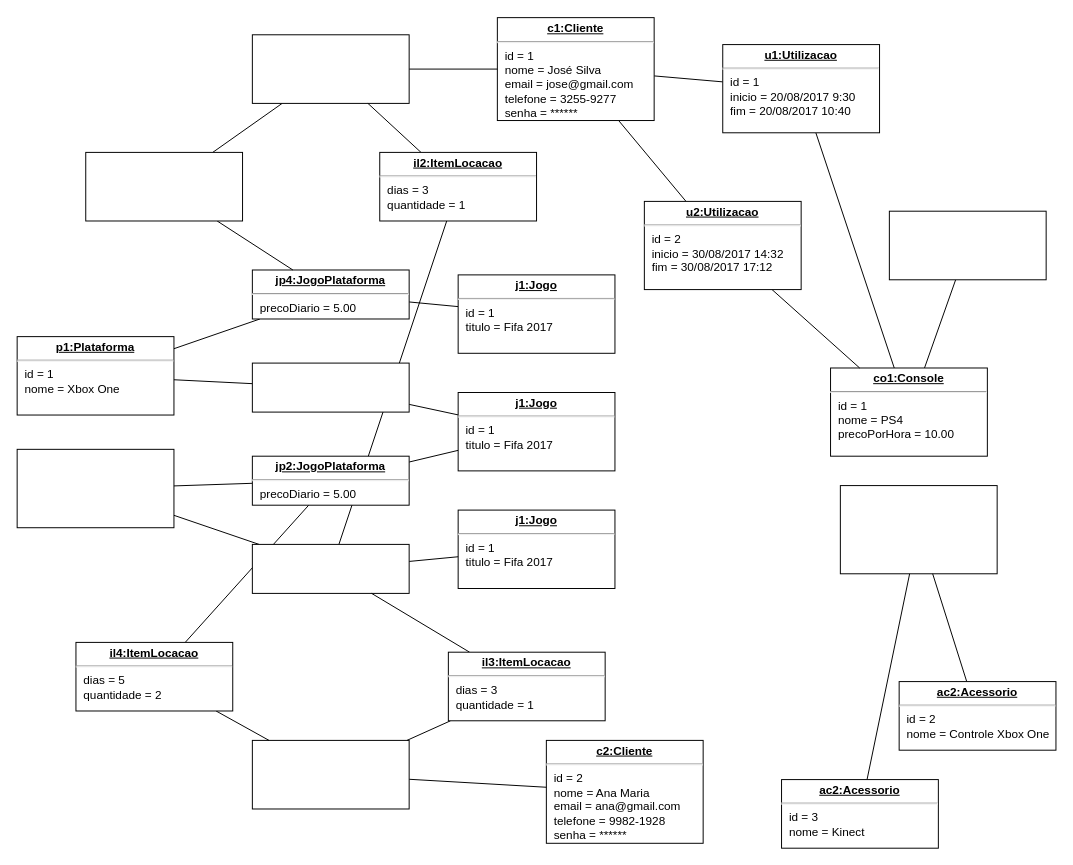
Some shapes in this 1073 by 865 pixel diagram are drawn without their labels. Each missing label, with the box of its shape:
ac1:Acessorio id = 1 nome = Controle PS4: (888, 210, 1046, 280)
co2:Console id = 2 nome = Xbox One precoPorHora = 11.00: (839, 485, 997, 574)
il1:ItemLocacao dias = 2 quantidade = 1: (85, 151, 243, 221)
jp1:JogoPlataforma precoDiario = 4.00: (251, 362, 409, 412)
jp3:JogoPlataforma precoDiario = 5.50: (251, 543, 409, 593)
l1:Locacao id = 1 data = 30/08/2017: (251, 34, 409, 103)
l2:Locacao id = 2 data = 05/09/2017: (251, 739, 409, 809)
p2:Plataforma id = 2 nome = PlayStation 4: (16, 448, 174, 528)
